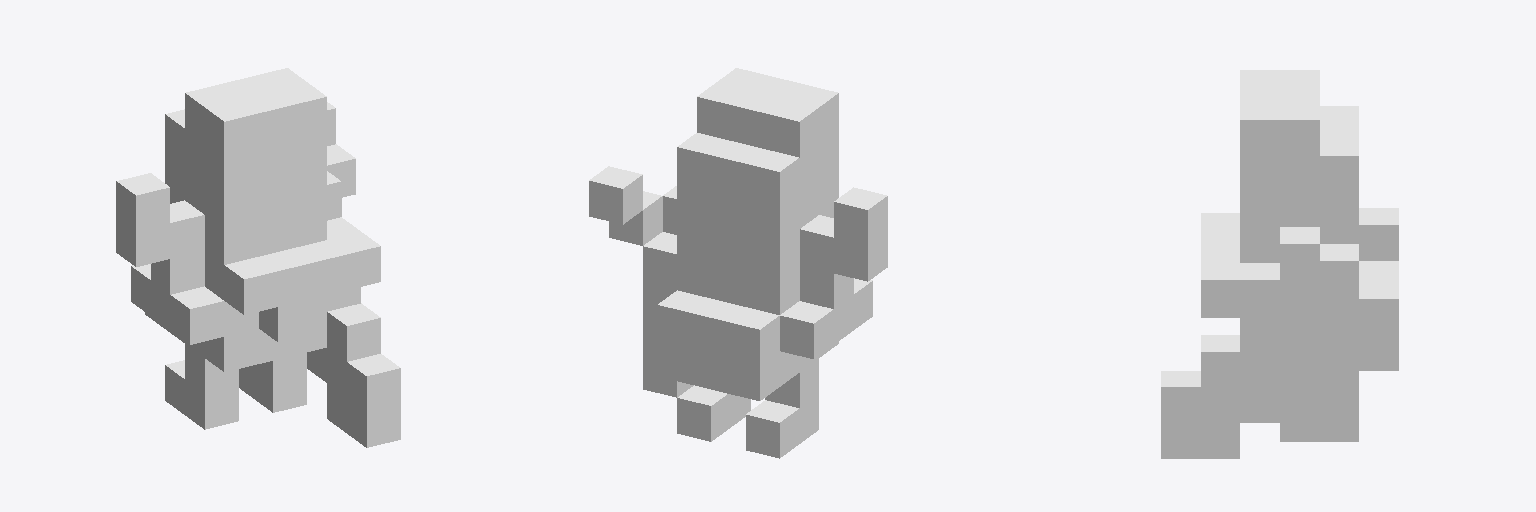
Rendered from DedKnight.obj.
The picture shows the model from 3 angles: view 1: azimuth 30°, elevation 25°; view 2: azimuth 150°, elevation 25°; view 3: azimuth 270°, elevation 25°; orthographic projection.
Parts seen in each view (by area): view 1: GnomeBase; view 2: GnomeBase; view 3: GnomeBase.
Part boxes in pixels (bbox=[...]): GnomeBase: bbox=[116, 68, 400, 447]; GnomeBase: bbox=[589, 68, 887, 458]; GnomeBase: bbox=[1161, 70, 1398, 458].
Size of the model in its own units: 0.7 by 0.9 by 0.6.